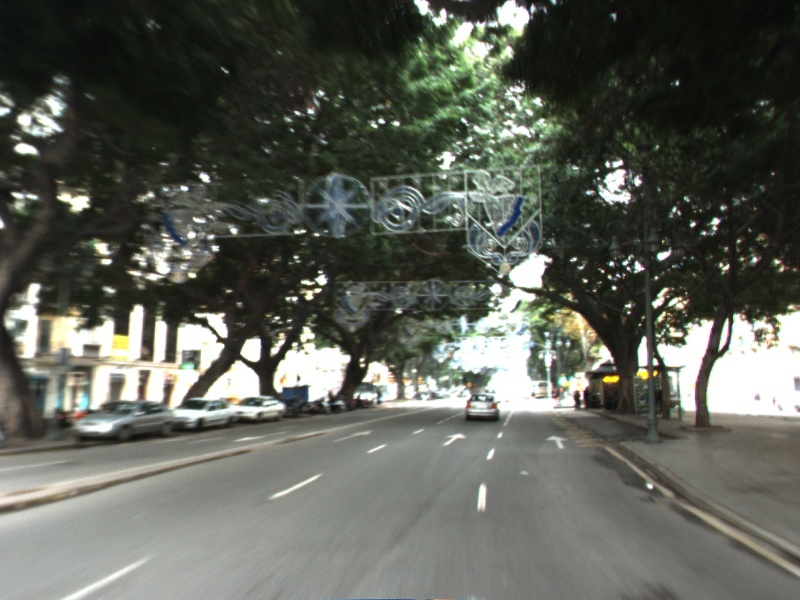STRAIGHT: (330, 428, 375, 444), (543, 433, 571, 451), (440, 431, 468, 447)
